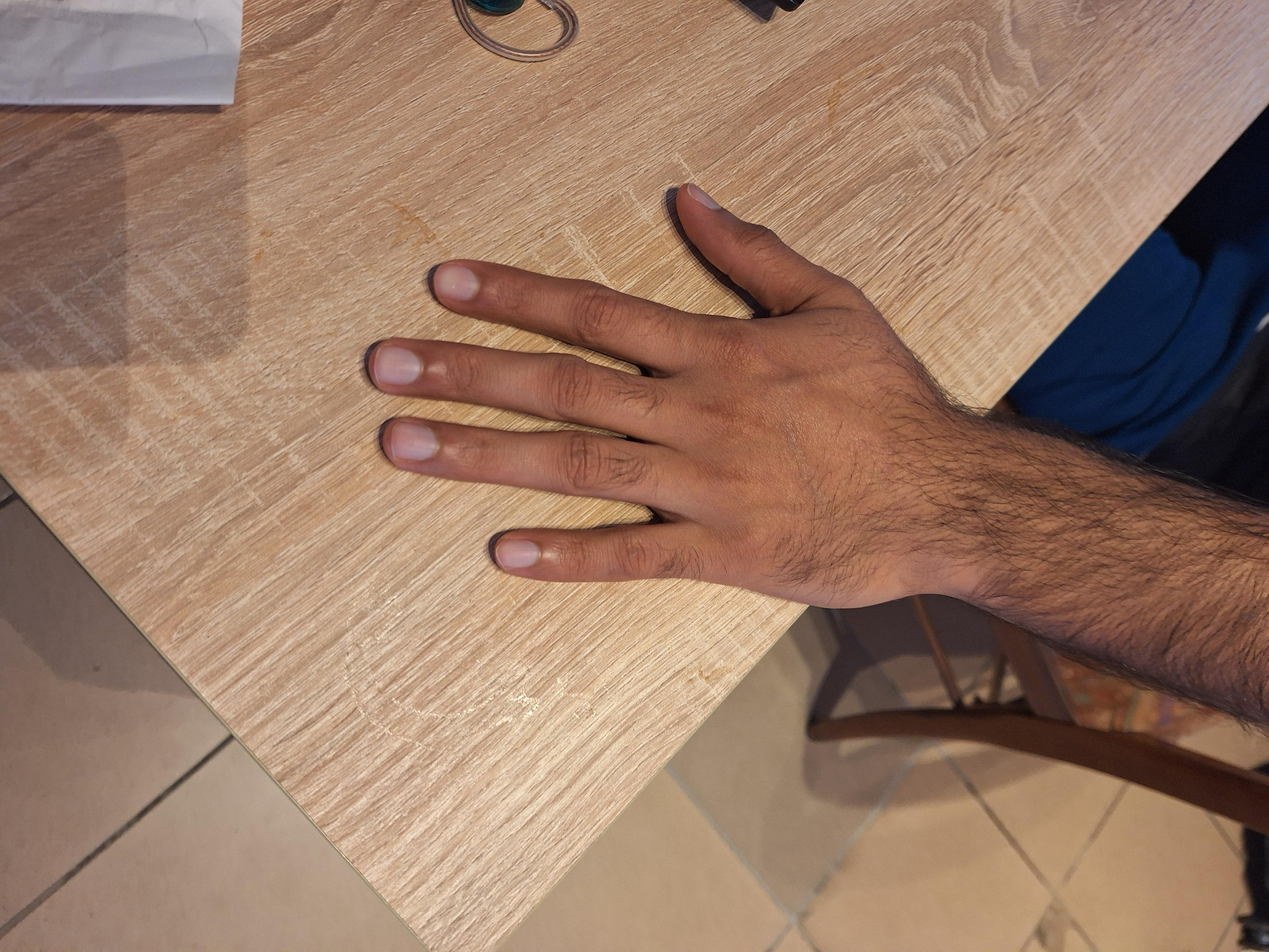Fingernail: (374, 346, 421, 385), (392, 422, 436, 461), (434, 264, 477, 301), (496, 540, 538, 567), (687, 183, 722, 209)
